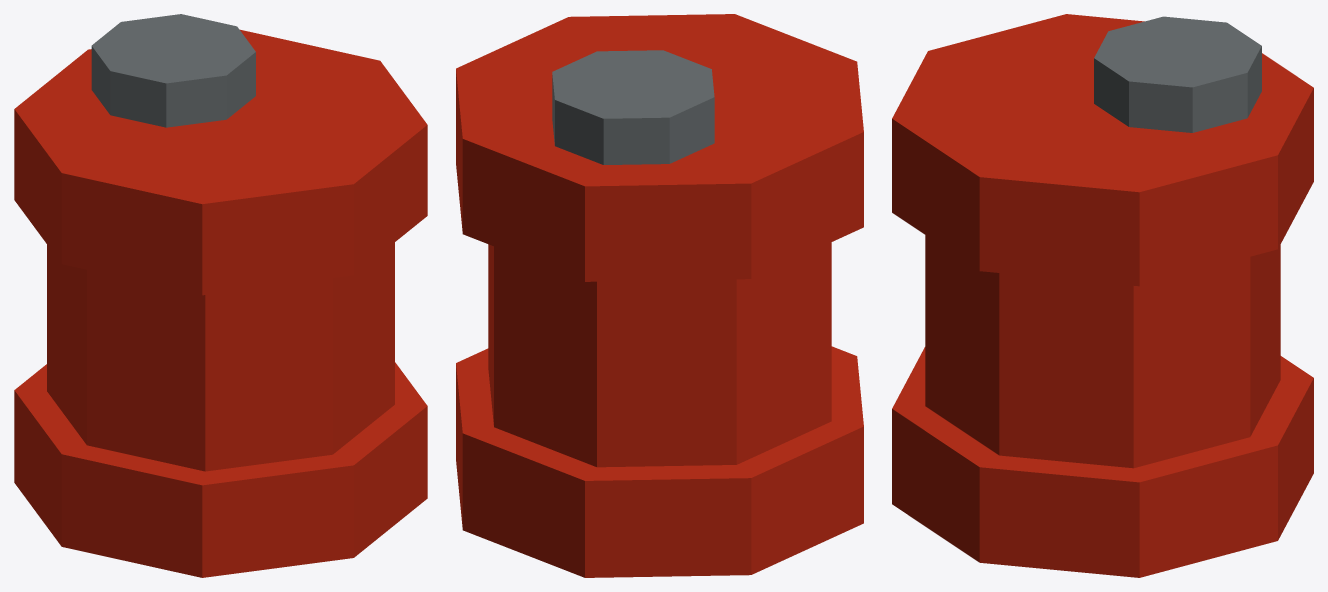
File: barrel_red.fbx
The picture shows the model from 3 angles, left to right: view 1: azimuth 30°, elevation 25°; view 2: azimuth 150°, elevation 25°; view 3: azimuth 270°, elevation 25°; orthographic projection. The views are drawn at different scales.
Visible parts, largest first — view 1: barrel_red; view 2: barrel_red; view 3: barrel_red.
Part boxes in pixels (left/top/right/bottom): barrel_red: left=14, top=14, right=427, bottom=577; barrel_red: left=456, top=14, right=863, bottom=577; barrel_red: left=892, top=14, right=1313, bottom=577.
Size of the model in its own units: 44.65 by 50.38 by 44.65.
